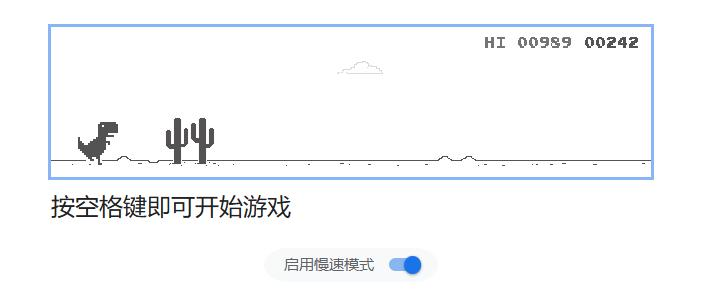cactus: (166, 117, 216, 167)
dino: (76, 121, 119, 165)
